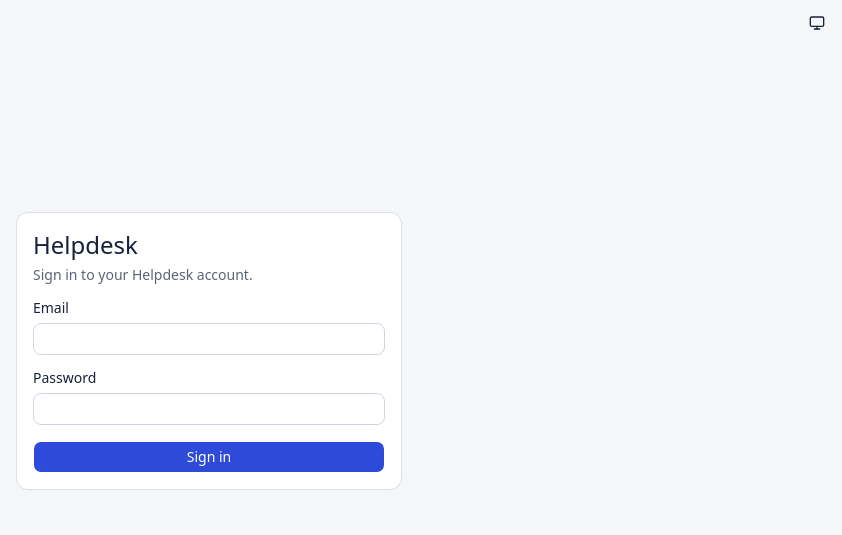
Test case: LoginPage › clears a field error once the input is corrected
Click the button "Sign in".
click(209, 457)  # box x1=33 y1=441 x2=385 y2=473
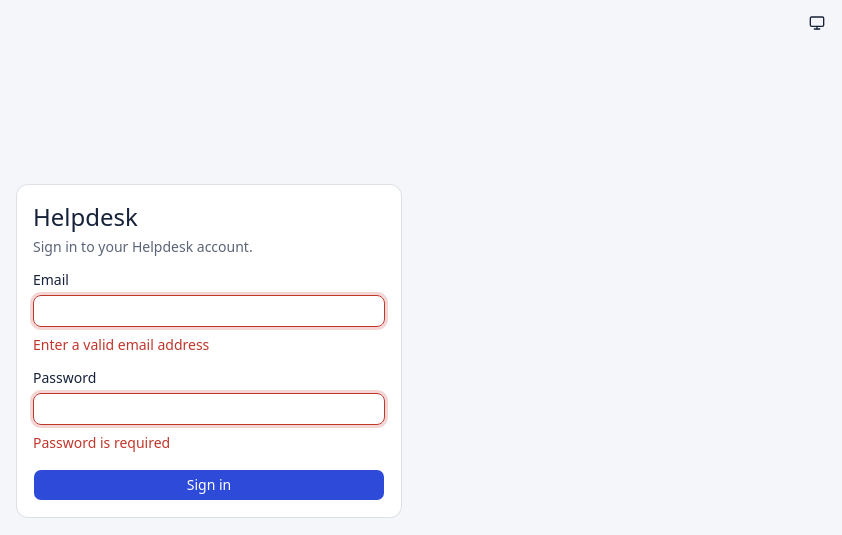
Result: the text "Enter a valid email address" is shown at x1=33 y1=335 x2=209 y2=354
Type "agent@example.com" into the field labelled "Email".
click(209, 311); type("agent@example.com")  # box x1=33 y1=295 x2=385 y2=327
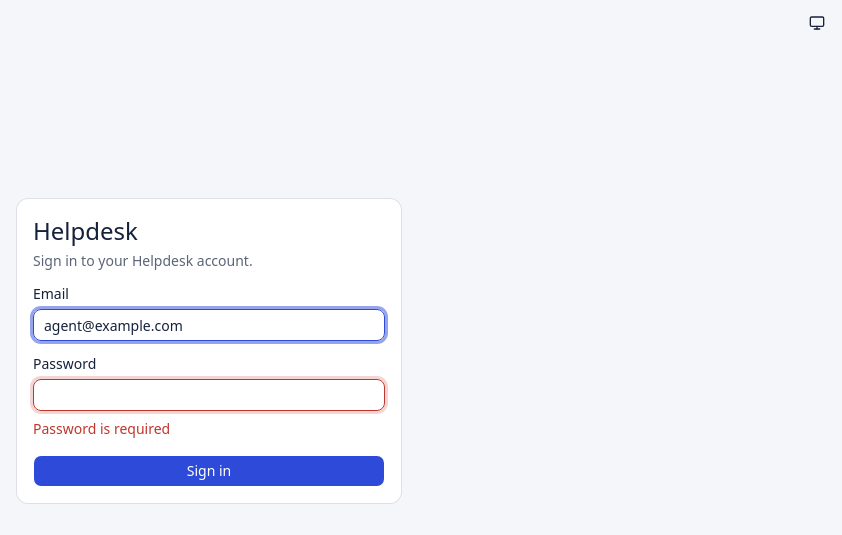
Result: the text "Enter a valid email address" is gone
